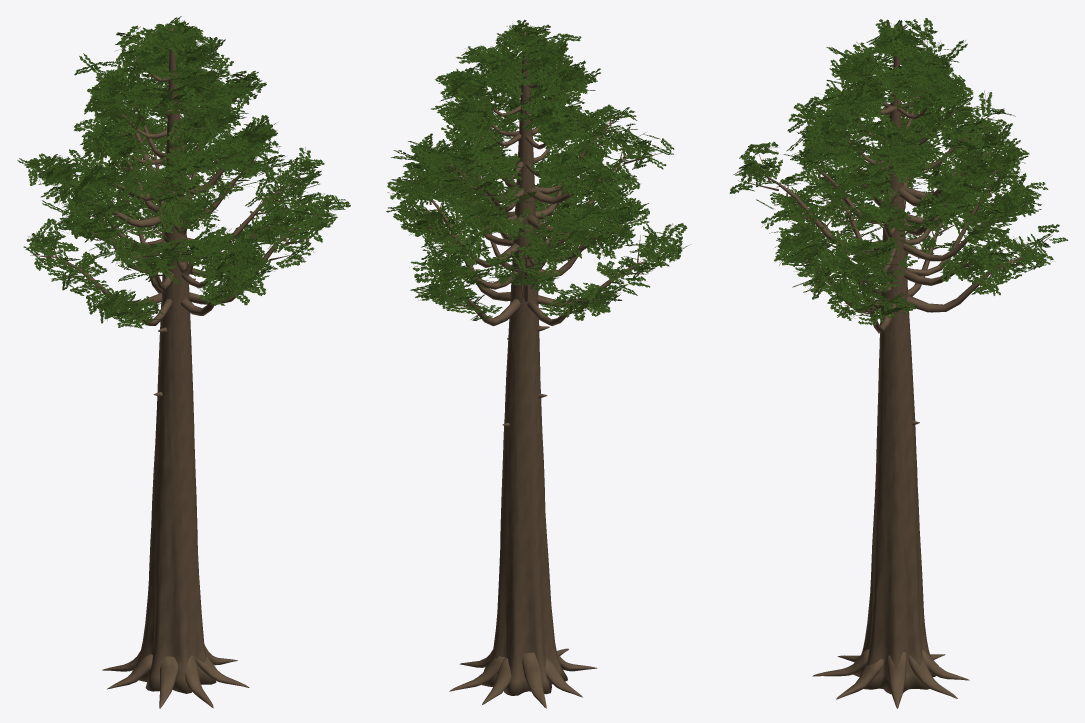
Rendered from GF2_Tree_A_Sentinel_LOD1.fbx.
3 views of the same model, side by side, from view 1: azimuth 30°, elevation 25°; view 2: azimuth 150°, elevation 25°; view 3: azimuth 270°, elevation 25° (orthographic).
Parts seen in each view (by area): view 1: GF2_Tree_A_Sentinel_LOD1; view 2: GF2_Tree_A_Sentinel_LOD1; view 3: GF2_Tree_A_Sentinel_LOD1.
Boxes of the visible parts, bbox=[...] form: GF2_Tree_A_Sentinel_LOD1: bbox=[17, 16, 350, 708]; GF2_Tree_A_Sentinel_LOD1: bbox=[386, 19, 690, 708]; GF2_Tree_A_Sentinel_LOD1: bbox=[729, 18, 1068, 708].
Size of the model in its own units: 54.32 by 122 by 57.96.
